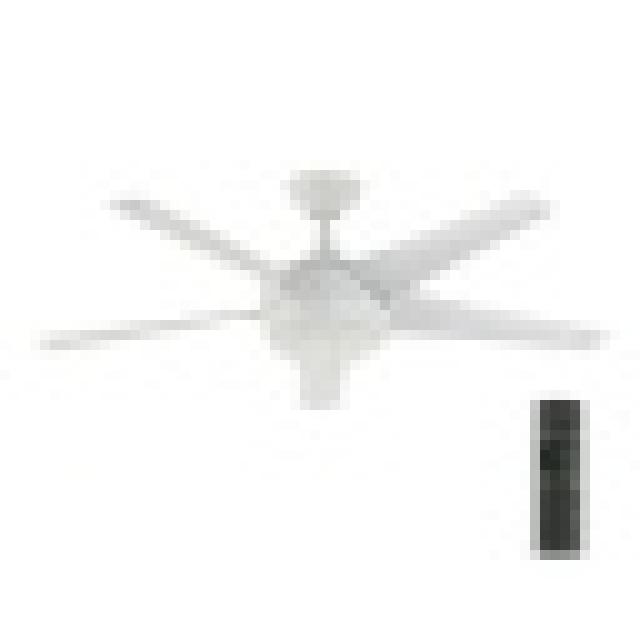Bulb: (25, 179, 618, 413)
